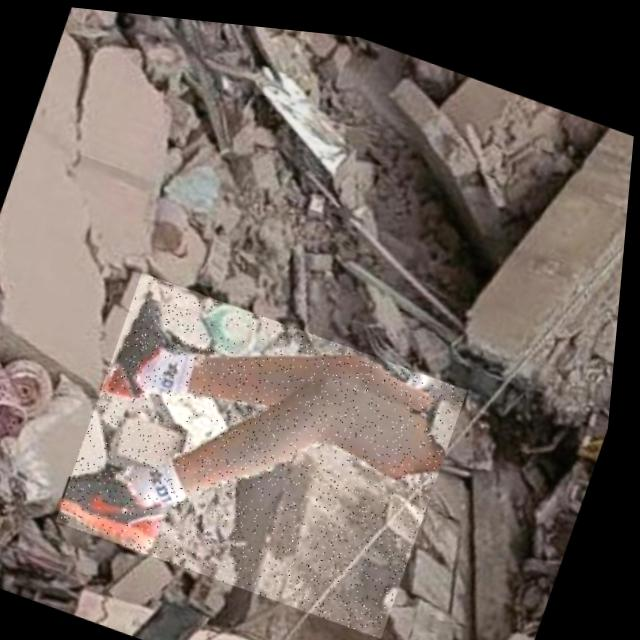Person in Rubble: (57, 263, 477, 633)
